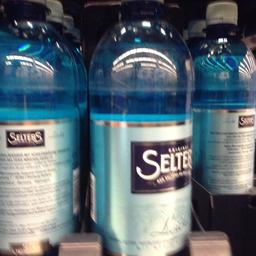water: (86, 0, 196, 255), (0, 0, 81, 255), (193, 0, 255, 193)
